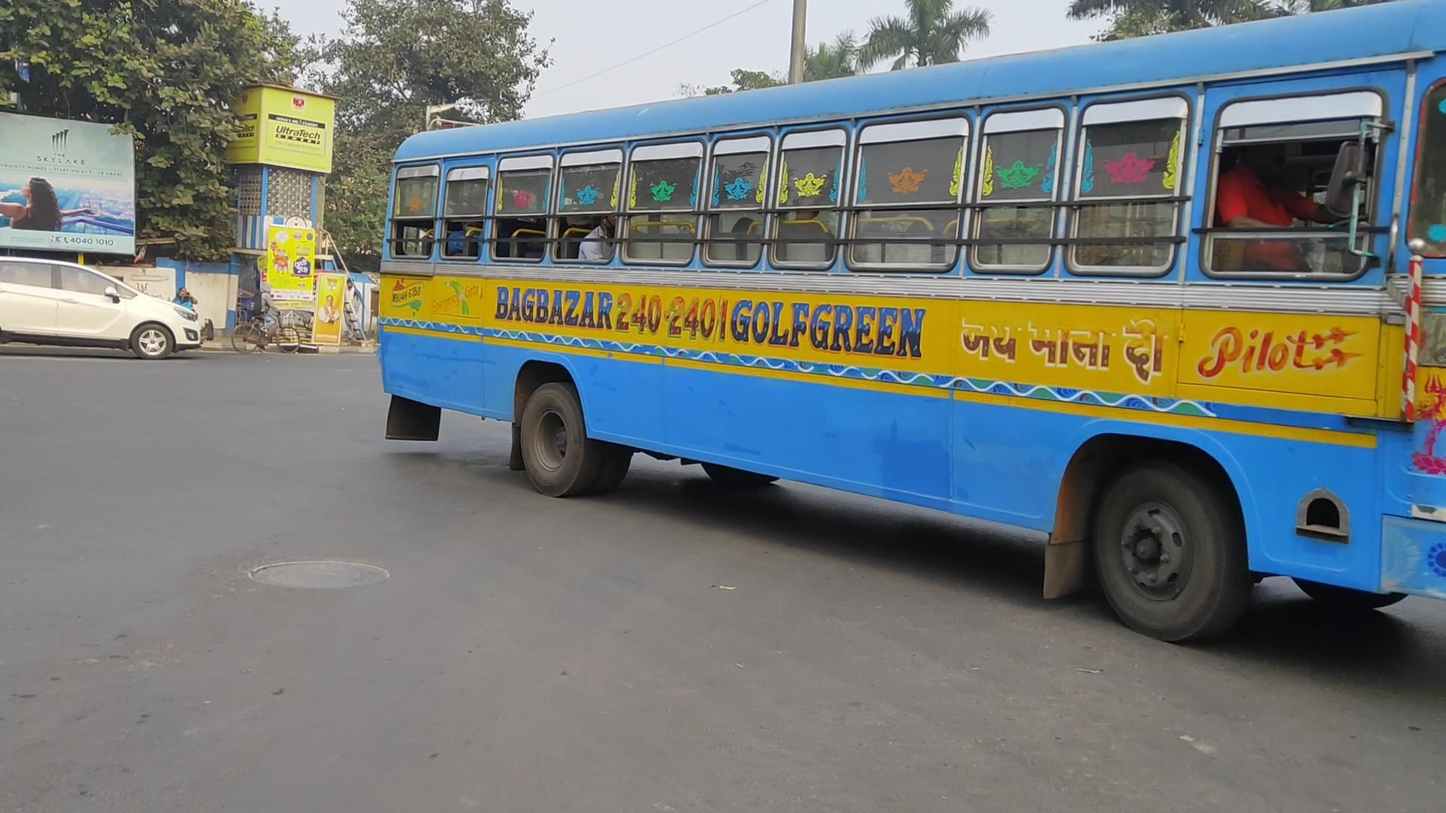Bus: (377, 2, 1446, 646)
bike: (230, 282, 301, 355)
car: (1, 254, 204, 361)
